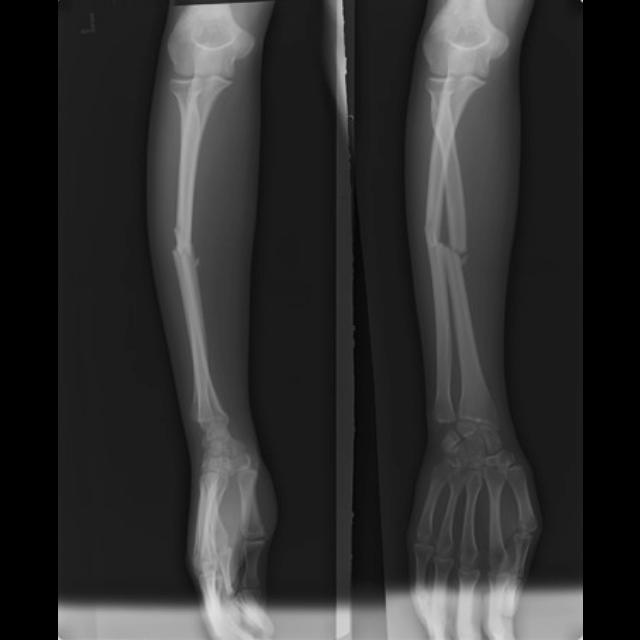fractured: (422, 218, 469, 271), (167, 221, 202, 275)
